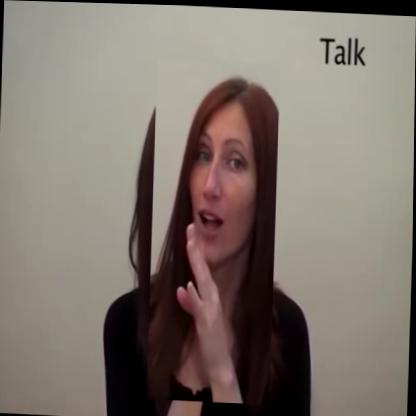Talk: (147, 58, 280, 403)
